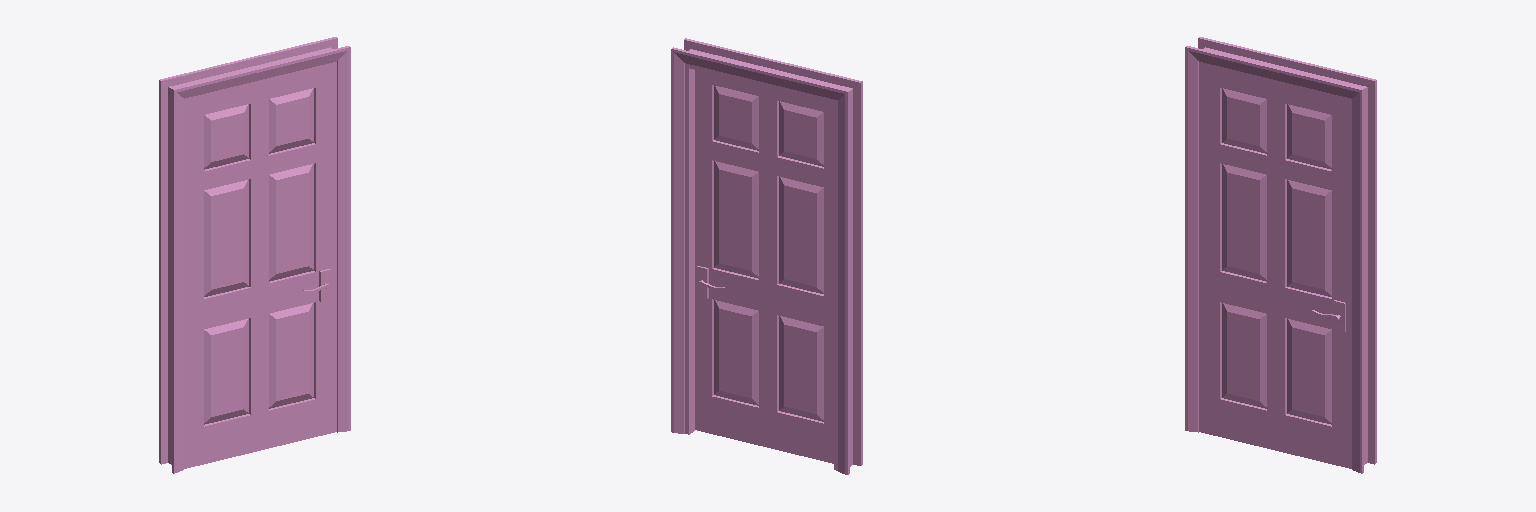
3 renders of one model, left to right at view 1: azimuth 30°, elevation 25°; view 2: azimuth 150°, elevation 25°; view 3: azimuth 330°, elevation 25°, orthographic.
Visible parts, largest first — view 1: intdoor_dxf_001; view 2: intdoor_dxf_001; view 3: intdoor_dxf_001.
Boxes of the visible parts, x1,y1,x2,y2 form: intdoor_dxf_001: [159, 37, 350, 473]; intdoor_dxf_001: [671, 38, 862, 474]; intdoor_dxf_001: [1185, 37, 1376, 473].
Size of the model in its own units: 980 by 2030 by 162.